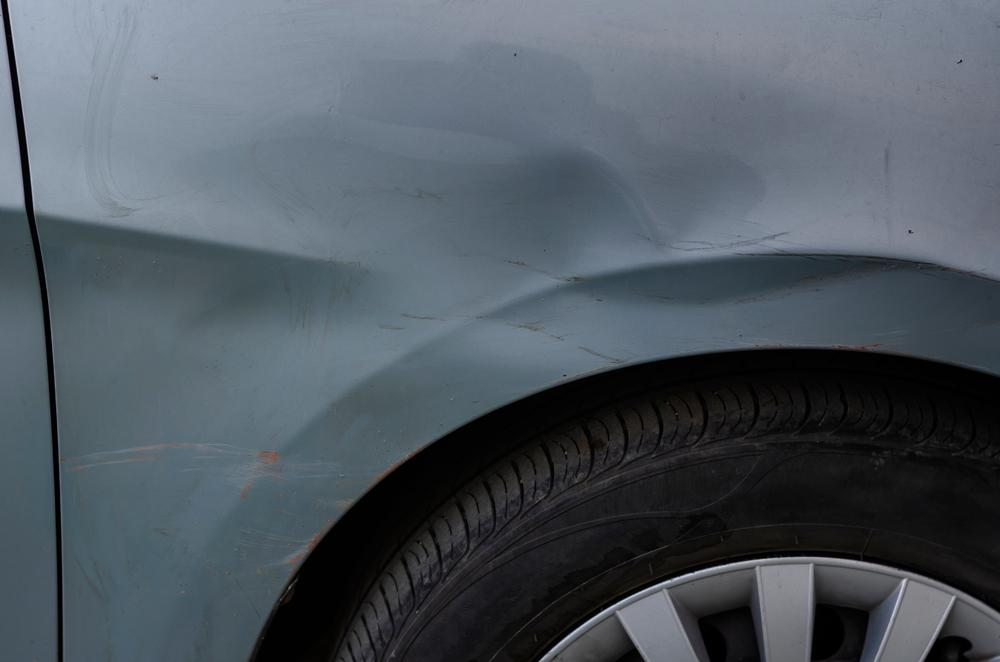dent: (12, 0, 903, 566)
